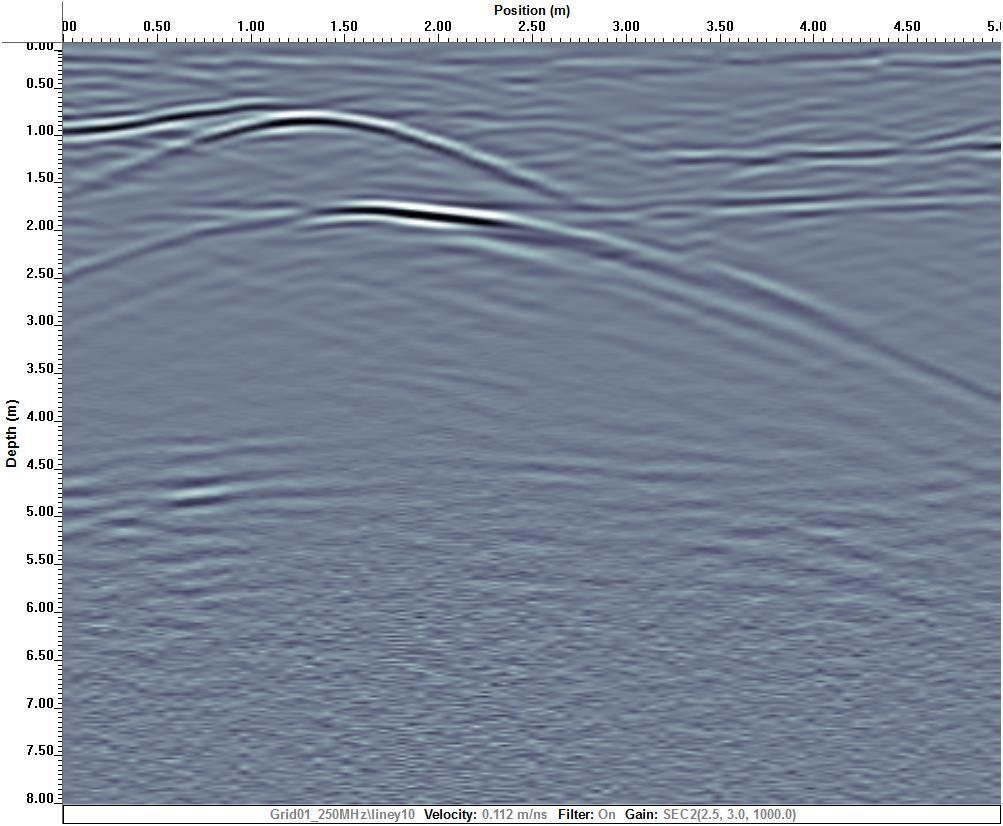hyperbola: (115, 184, 705, 284), (97, 83, 565, 191)
